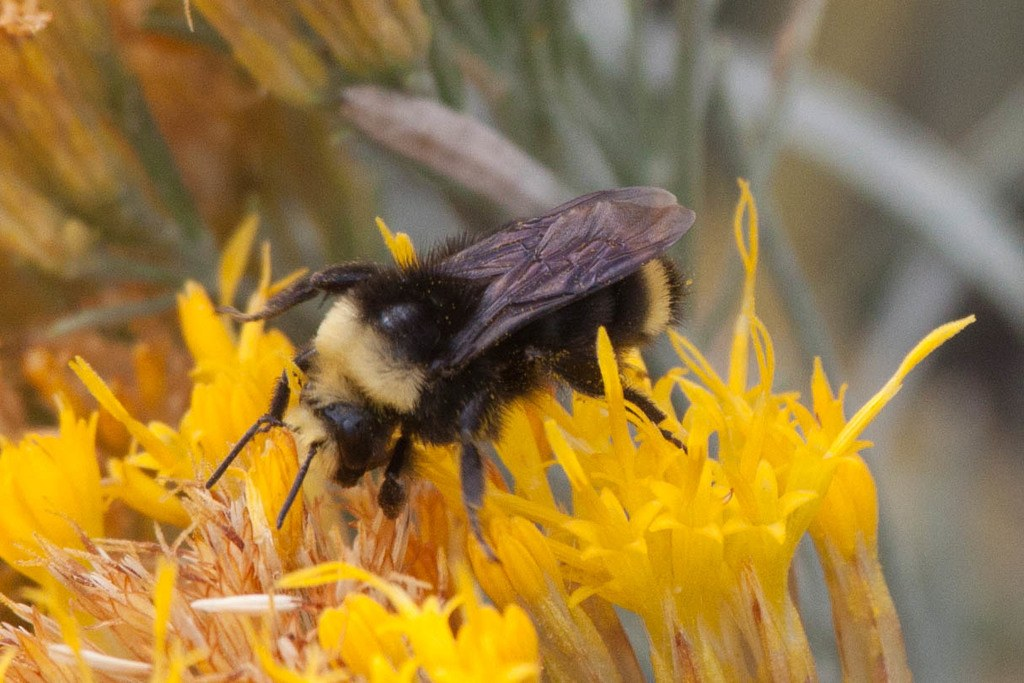bee: (218, 184, 697, 531)
insect: (0, 207, 651, 682), (545, 307, 932, 635)
